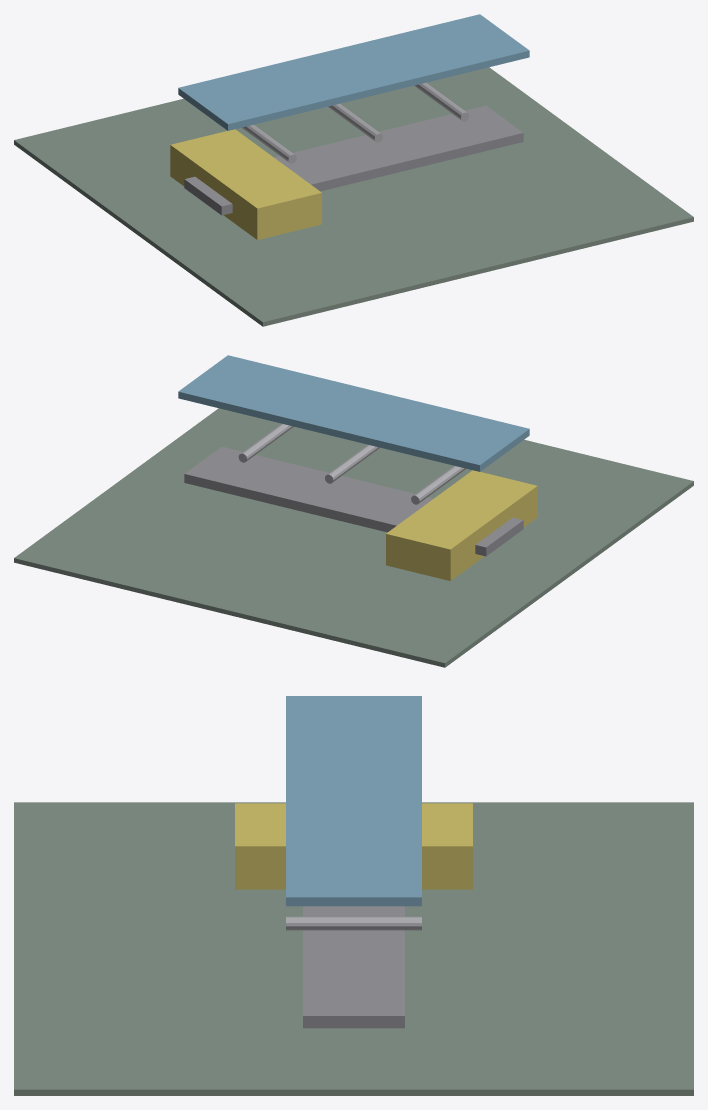
The model's file is transport.glb.
3 renders of one model, top to bottom at view 1: azimuth 30°, elevation 25°; view 2: azimuth 150°, elevation 25°; view 3: azimuth 270°, elevation 25°, orthographic. The views are drawn at different scales.
Parts seen in each view (by area): view 1: part_0, part_5, part_1, part_6, part_2, part_4, part_3; view 2: part_0, part_5, part_1, part_6, part_2, part_4, part_3; view 3: part_0, part_5, part_1, part_6, part_4.
Boxes of the visible parts, x1,y1,x2,y2 form: part_0: (14, 67, 693, 326); part_5: (178, 14, 529, 130); part_1: (184, 105, 523, 215); part_6: (170, 129, 321, 239); part_2: (242, 124, 296, 163); part_4: (414, 82, 469, 121); part_3: (328, 103, 382, 142); part_0: (14, 408, 693, 667); part_5: (178, 355, 529, 471); part_1: (184, 446, 523, 556); part_6: (386, 470, 537, 580); part_2: (411, 465, 465, 504); part_4: (238, 423, 293, 462); part_3: (325, 444, 379, 483); part_0: (14, 802, 693, 1095); part_5: (286, 696, 421, 906); part_1: (303, 906, 404, 1028); part_6: (235, 803, 472, 889); part_4: (286, 916, 421, 930).
Size of the model in its own units: 20 by 5.05 by 20.
